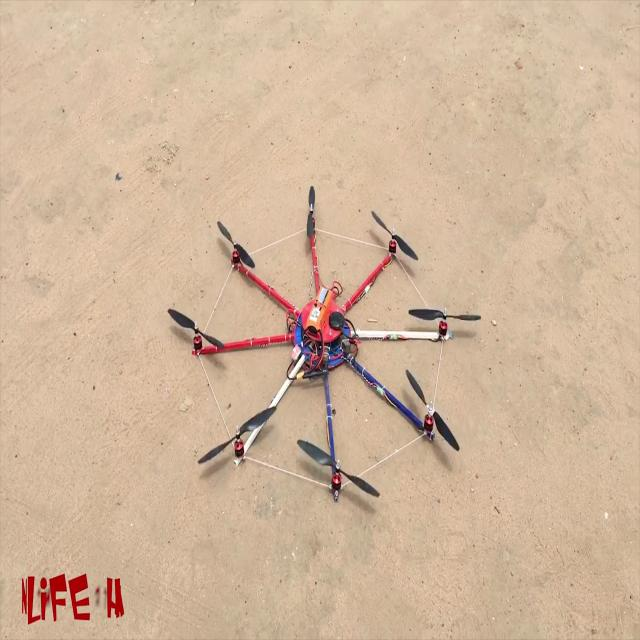drone: (148, 164, 493, 537)
